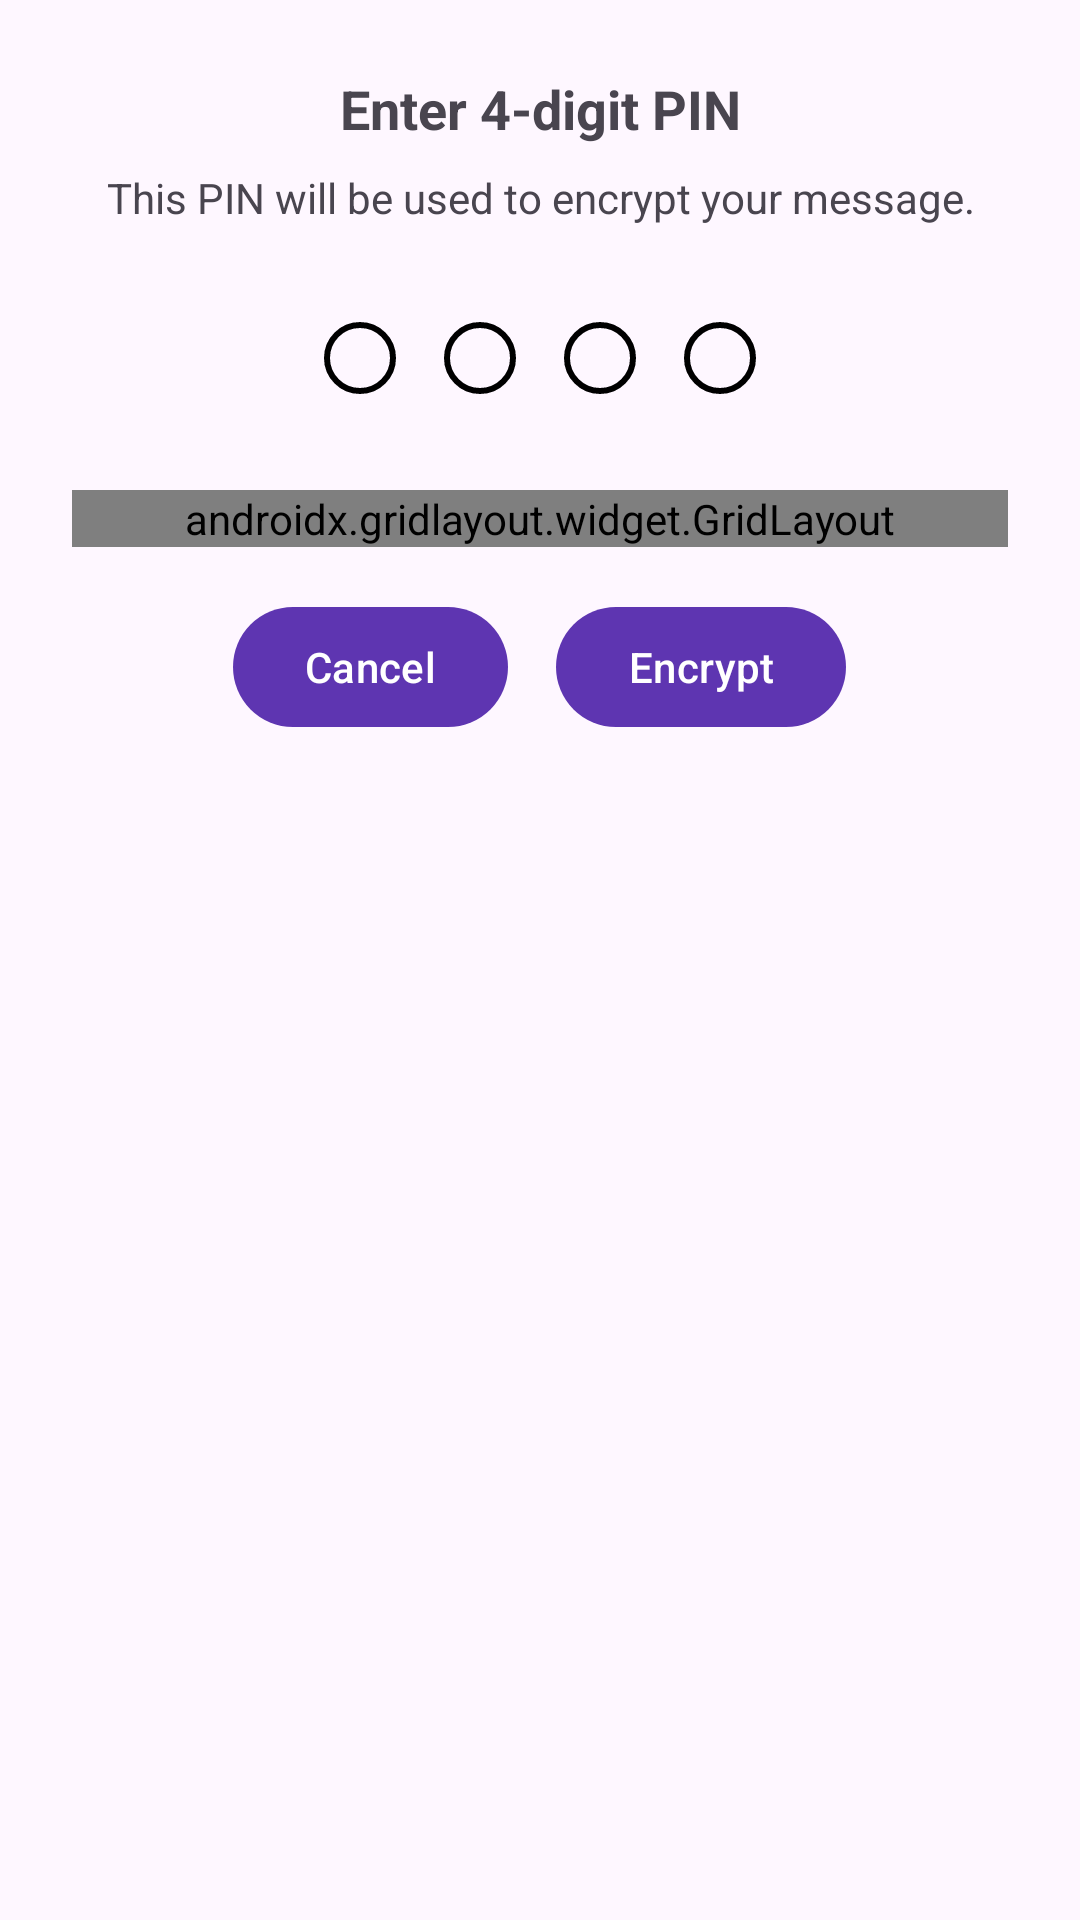

Icon bounding boxes for this 1080 × 1920 phone screenshot, format [x1, y1, x2, y2]:
pin dot empty: [324, 322, 396, 394], [444, 322, 516, 394], [564, 322, 636, 394], [684, 322, 756, 394]
